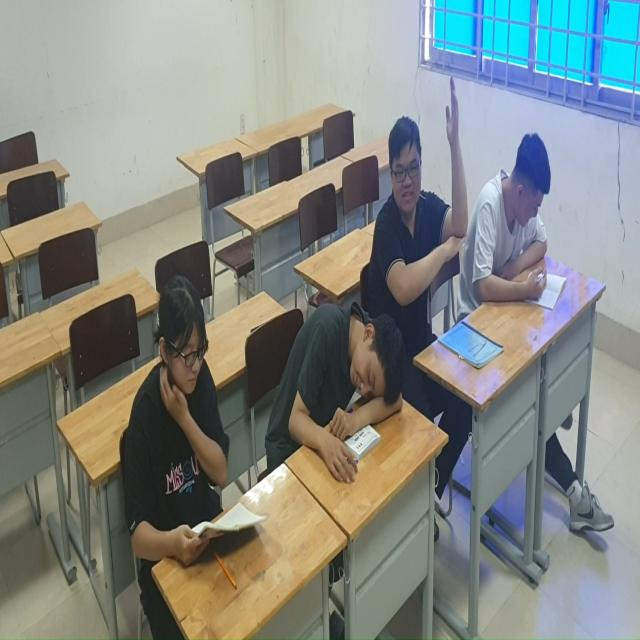raise_hand: (373, 77, 472, 322)
read: (124, 273, 266, 574), (472, 129, 570, 324)
sleep: (269, 286, 407, 493)
